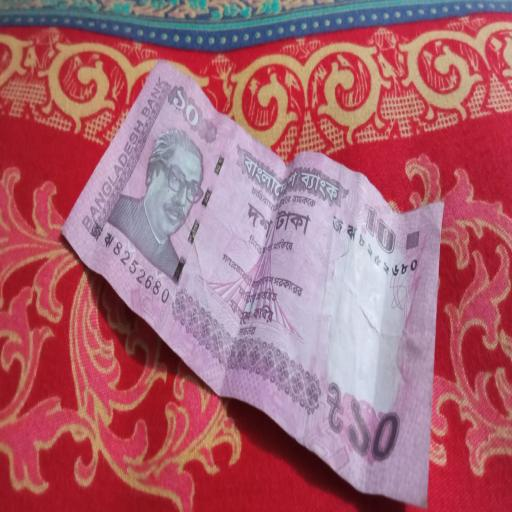10taka: (61, 58, 446, 510)
